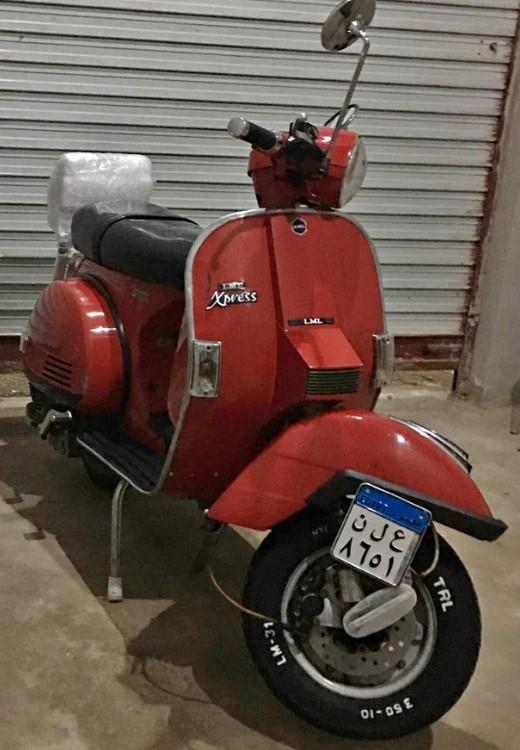License Plate: (332, 482, 432, 587)
